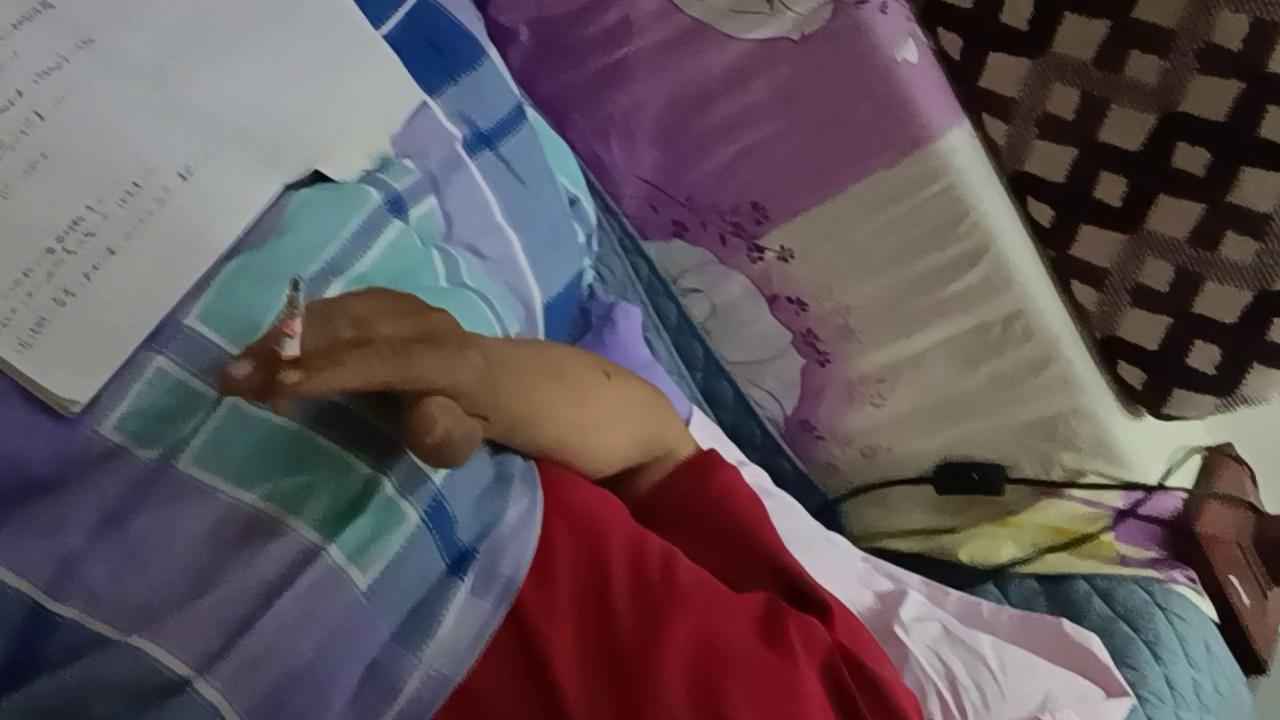smoke: (272, 278, 304, 417)
